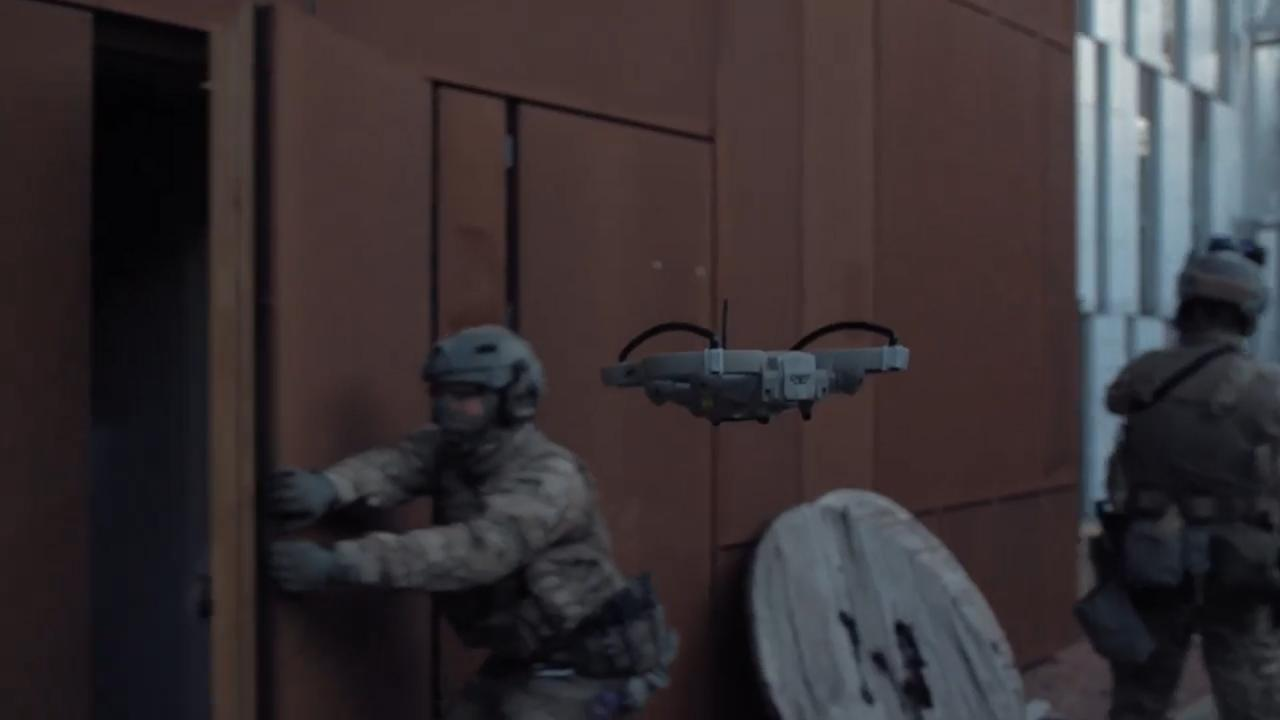Drone: (577, 304, 934, 444)
